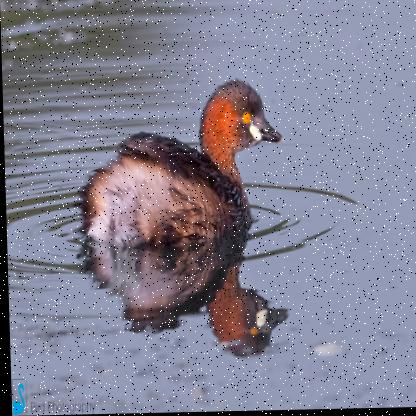Burung: (76, 79, 286, 249)
